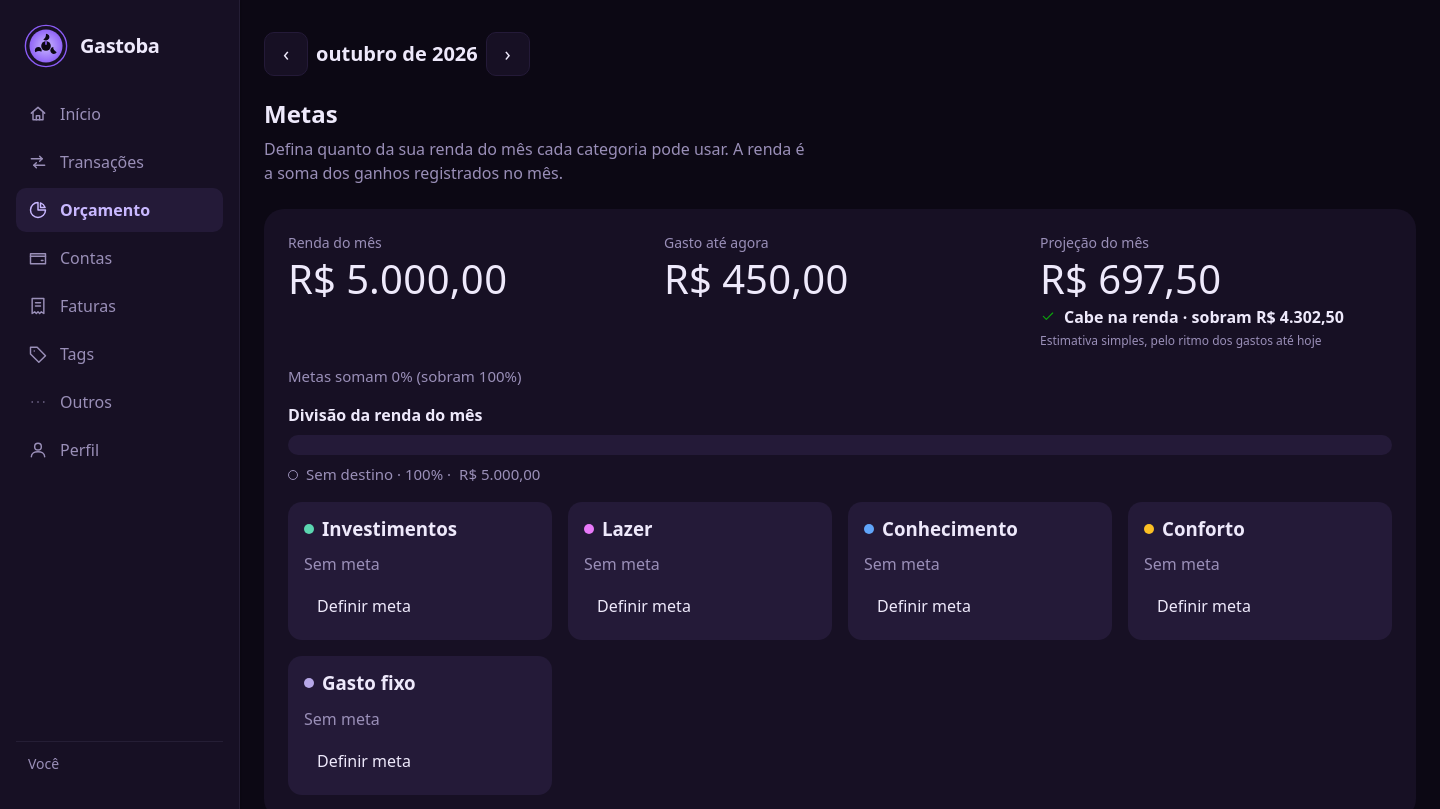
Test: Orcamento › define uma meta: o percentual vira reais da renda do mês e o progresso aparece
The width and height of the screenshot is (1440, 809).
Expected: the list item "Lazer" is shown, [568, 502, 832, 640]
Click the button with aria-label "Definir meta de Lazer" at (644, 606), box [584, 588, 704, 624]
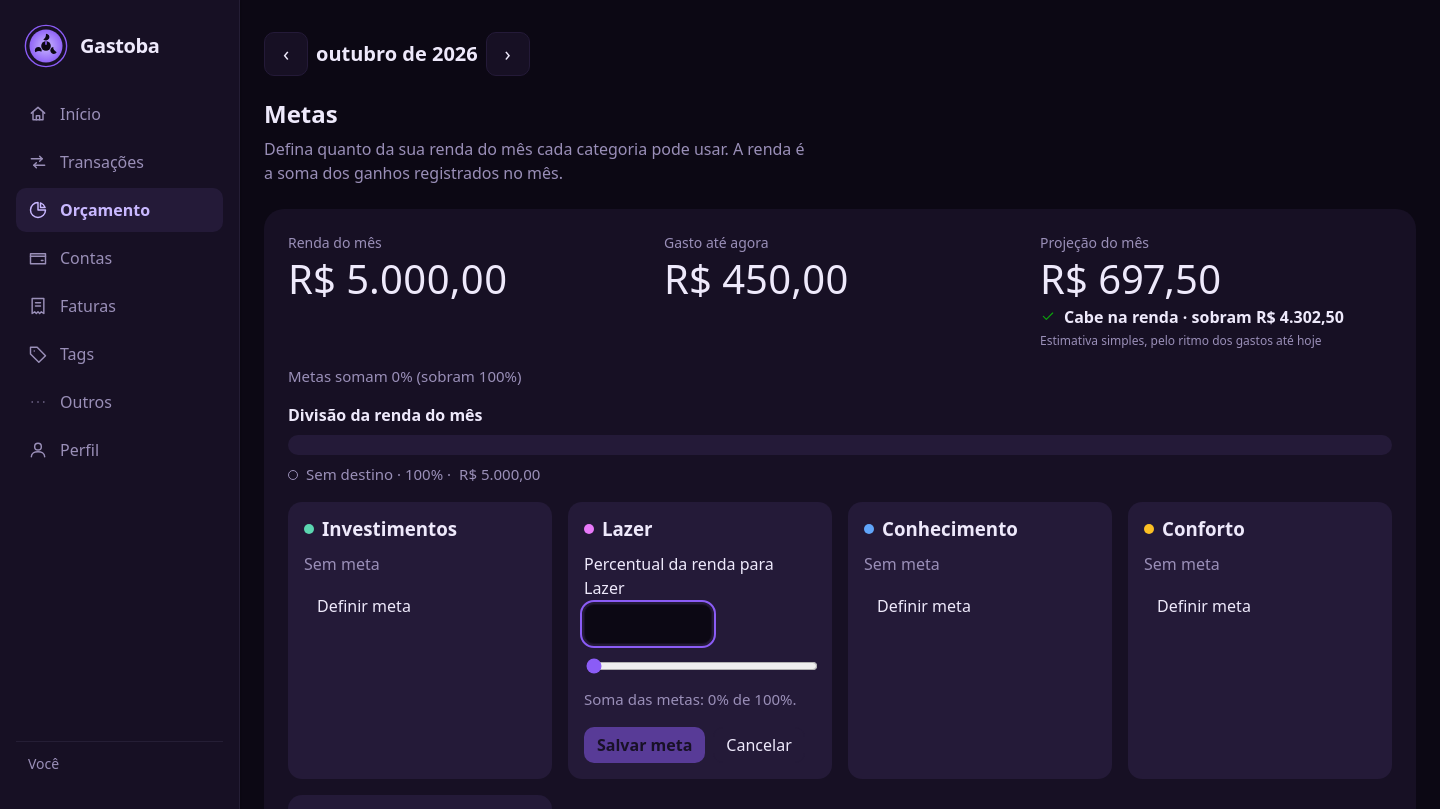
Type "10" into the field labelled "Percentual da renda para Lazer" at (648, 624), box [584, 604, 712, 644]
(page scrolled)
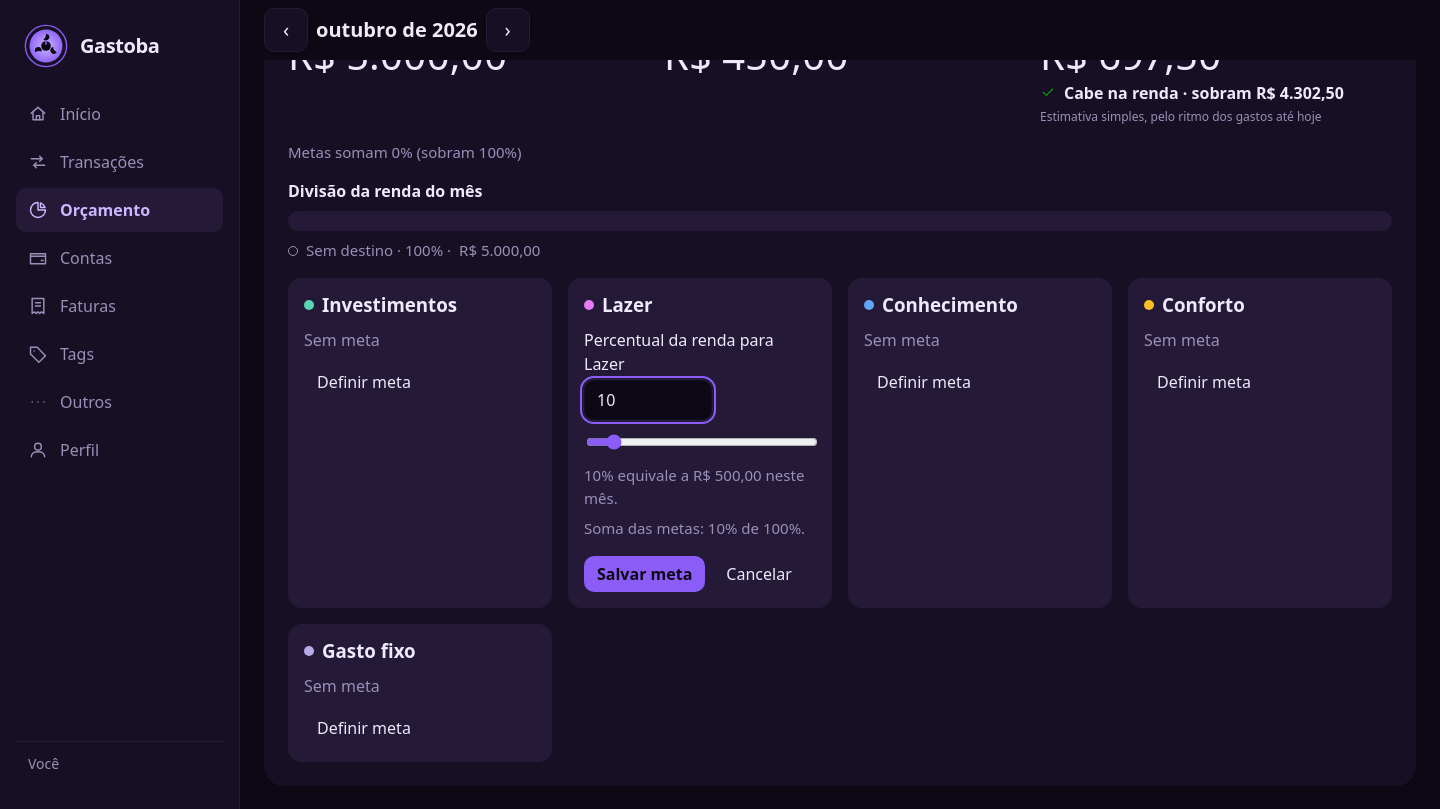
Click the button "Salvar meta" at (645, 574), box [584, 556, 705, 592]
(page scrolled)
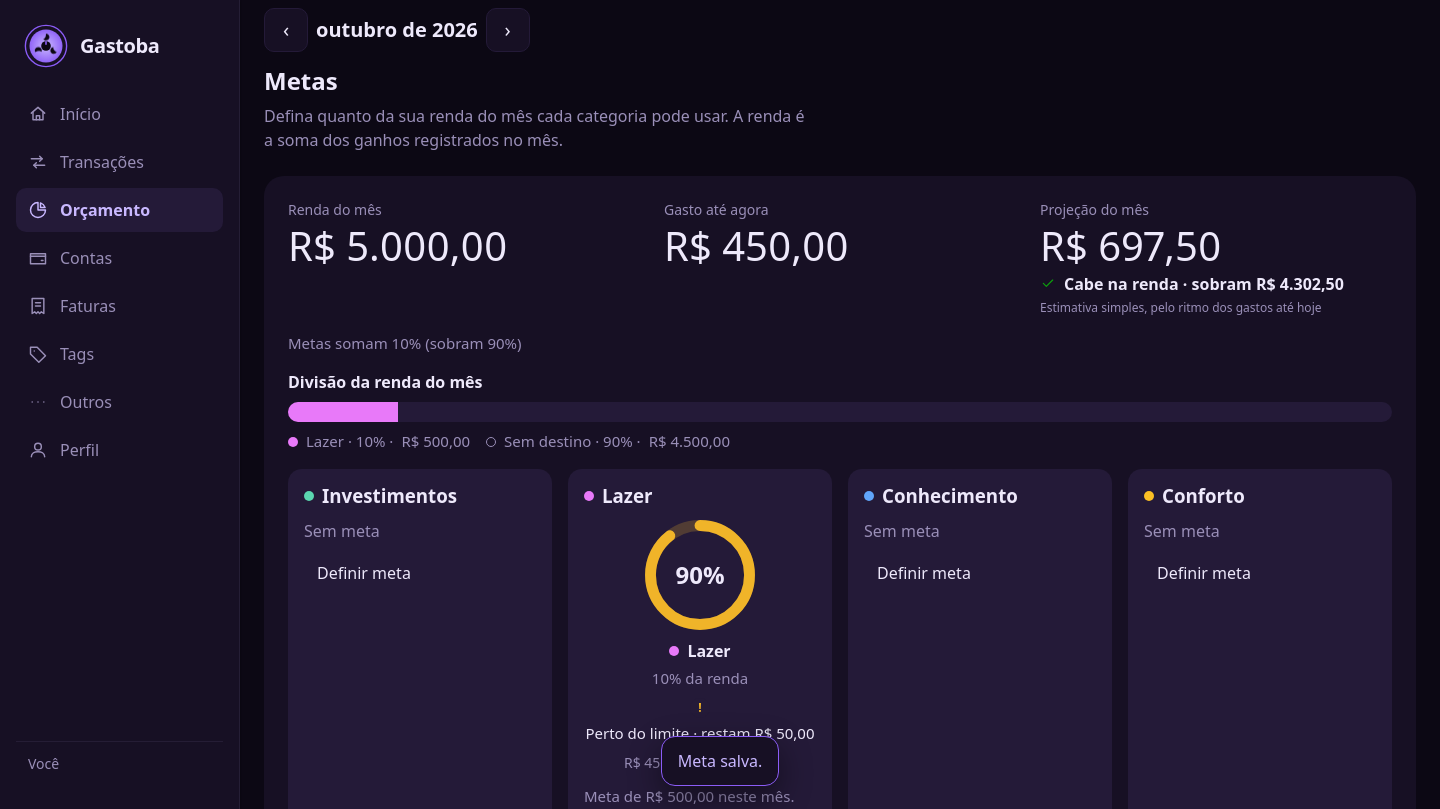
Result: the text "Meta salva." is shown at [678, 750, 762, 772]
Result: the list item "Lazer" shows "Perto do limite" at [585, 723, 814, 743]
Result: the text "Metas somam 10% (sobram 90%)" is shown at [288, 333, 522, 353]
